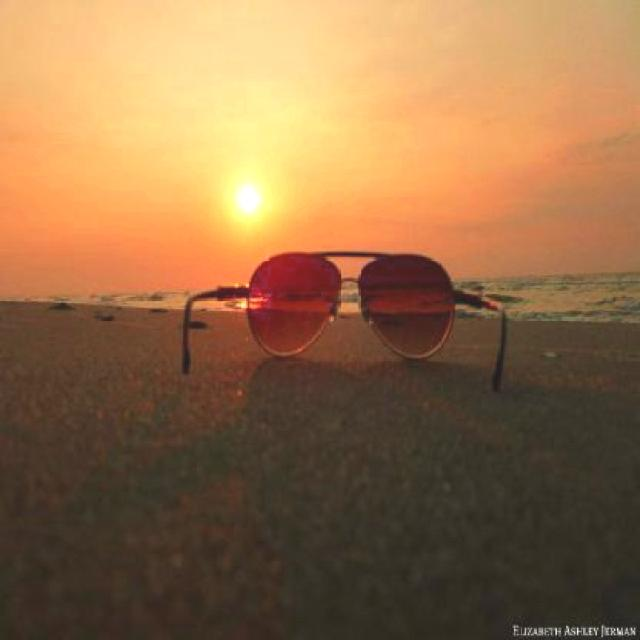glasses: (183, 232, 509, 376)
